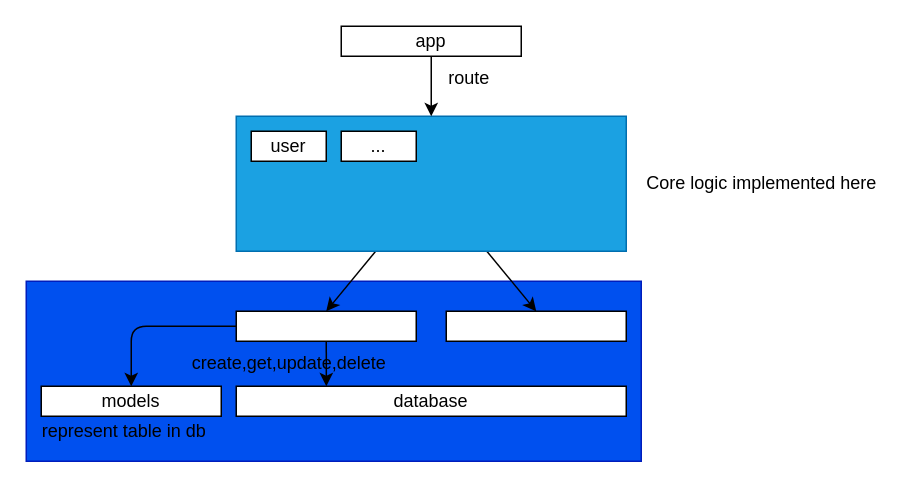
Image size: 923x488. Some labels were removed from this diagram. Each missing label, with the box of its shape:
crud: (235, 310, 416, 341)
schemas: (445, 310, 626, 341)
